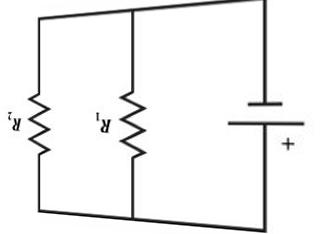resistor: (115, 72, 155, 165), (26, 81, 60, 163)
